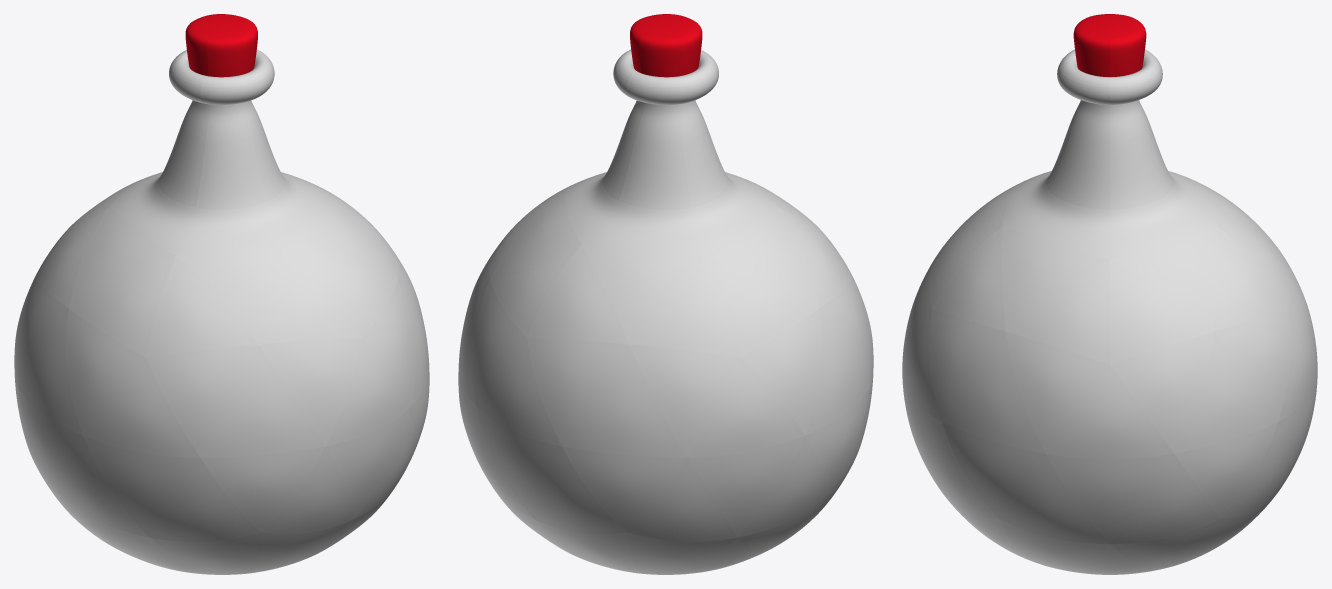
The model's file is potion.fbx.
3 renders of one model, left to right at view 1: azimuth 30°, elevation 25°; view 2: azimuth 150°, elevation 25°; view 3: azimuth 270°, elevation 25°, orthographic.
Parts seen in each view (by area): view 1: Icosphere, Icosphere.002; view 2: Icosphere, Icosphere.002; view 3: Icosphere, Icosphere.002.
Part boxes in pixels (bbox=[...]): Icosphere: bbox=[14, 49, 429, 574]; Icosphere.002: bbox=[185, 14, 257, 77]; Icosphere: bbox=[458, 49, 873, 574]; Icosphere.002: bbox=[630, 14, 702, 77]; Icosphere: bbox=[902, 49, 1317, 574]; Icosphere.002: bbox=[1073, 14, 1146, 76].
Bounding box in the file's own units: 185 × 256 × 185.
